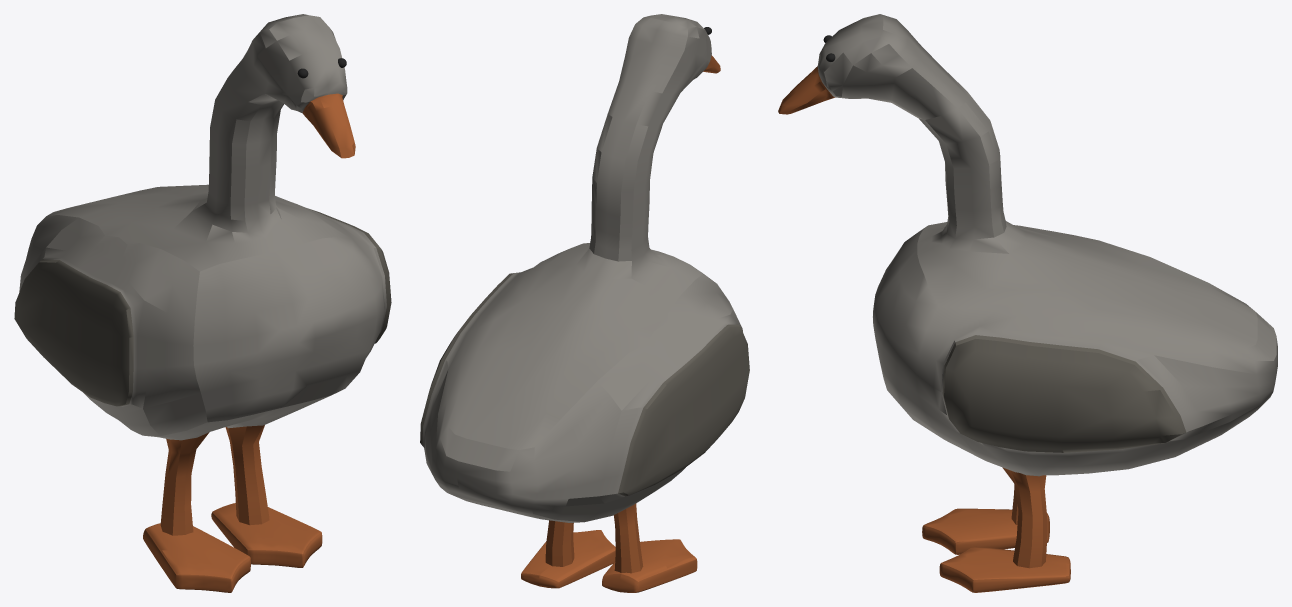
The model's file is goose2.gltf.
The picture shows the model from 3 angles, left to right: view 1: azimuth 30°, elevation 25°; view 2: azimuth 150°, elevation 25°; view 3: azimuth 270°, elevation 25°; orthographic projection. The views are drawn at different scales.
Parts seen in each view (by area): view 1: Cube; view 2: Cube; view 3: Cube.
Part boxes in pixels (x1,y1,x2,y2): Cube: (14, 14, 391, 592); Cube: (420, 14, 749, 592); Cube: (778, 14, 1277, 592).
Size of the model in its own units: 8.33 by 17 by 14.33.
